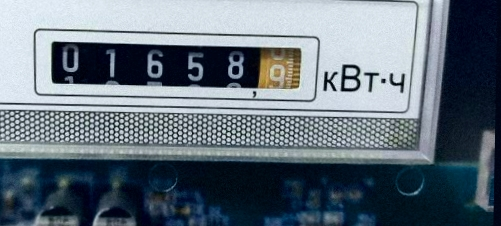0: (59, 41, 80, 72)
1: (102, 45, 120, 77)
5: (184, 49, 206, 80)
6: (144, 45, 165, 78)
8: (225, 46, 246, 79)
9: (265, 61, 286, 90)
screen: (23, 19, 324, 107)
